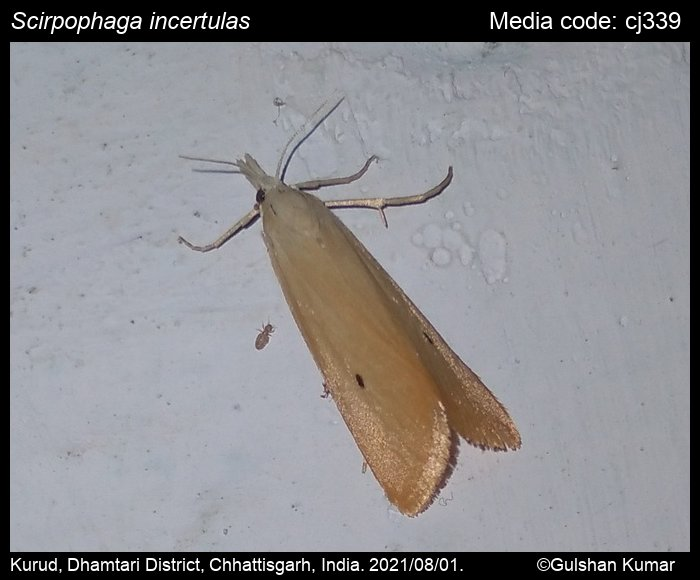Crambidae: (173, 90, 524, 522)
